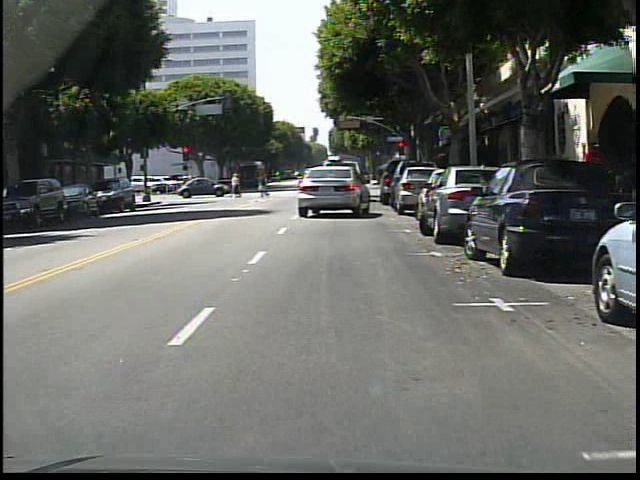person: (582, 142, 611, 219), (231, 172, 245, 197), (259, 170, 271, 198), (262, 175, 268, 191)
